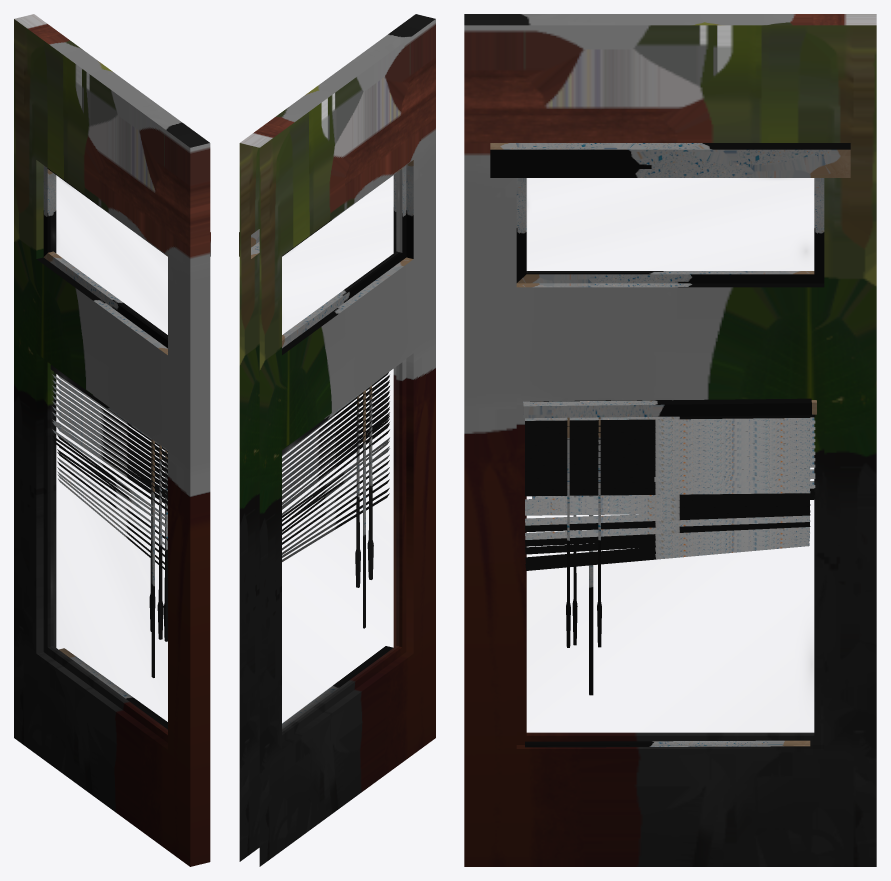
File: Wardenroom_wall1.fbx
The picture shows the model from 3 angles, left to right: view 1: azimuth 30°, elevation 25°; view 2: azimuth 150°, elevation 25°; view 3: azimuth 270°, elevation 25°; orthographic projection. The views are drawn at different scales.
Parts seen in each view (by area): view 1: Wall_Medium.011, BlindCurtain_2, BlindCurtain_1; view 2: Wall_Medium.011, BlindCurtain_2, BlindCurtain_1; view 3: Wall_Medium.011, BlindCurtain_2, BlindCurtain_1.
Boxes of the visible parts, x1,y1,x2,y2 form: Wall_Medium.011: [14, 14, 210, 866]; BlindCurtain_2: [57, 375, 167, 729]; BlindCurtain_1: [50, 365, 167, 677]; Wall_Medium.011: [239, 14, 435, 866]; BlindCurtain_2: [282, 372, 393, 729]; BlindCurtain_1: [282, 373, 389, 628]; Wall_Medium.011: [464, 14, 876, 866]; BlindCurtain_2: [523, 398, 811, 747]; BlindCurtain_1: [530, 400, 816, 695].
Bounding box in the file's own units: 0.3769 × 8.13 × 3.61.
